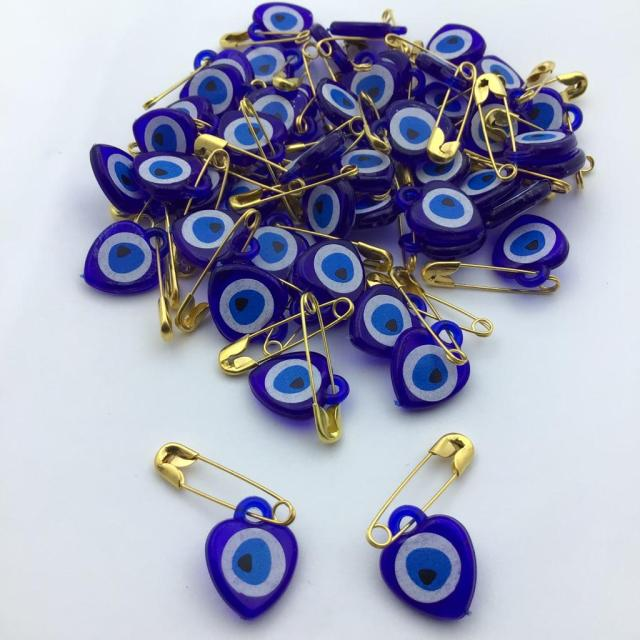Nazar-Boncugu: (203, 499, 299, 622), (378, 507, 477, 623)
